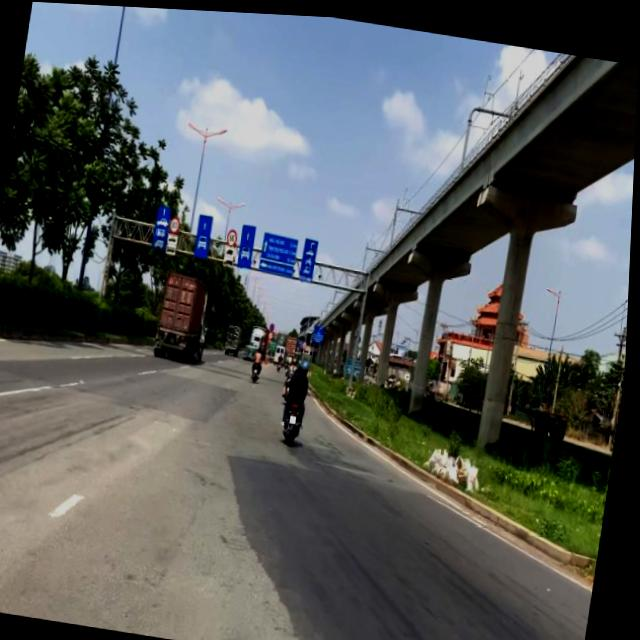Toc do toi da cho phep: (227, 226, 240, 246), (170, 213, 182, 232)
